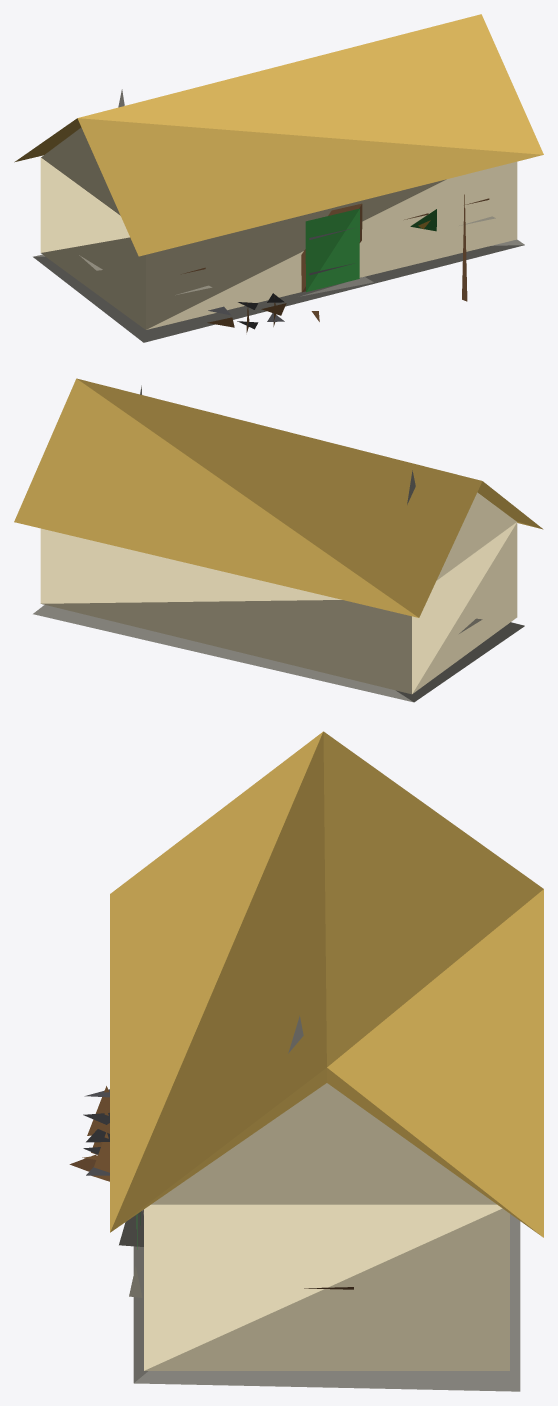
File: inn_green_dragon_lod2.glb
The picture shows the model from 3 angles, top to bottom: view 1: azimuth 30°, elevation 25°; view 2: azimuth 150°, elevation 25°; view 3: azimuth 270°, elevation 25°; orthographic projection. The views are drawn at different scales.
Visible parts, largest first — view 1: inn_green_dragon_lod2; view 2: inn_green_dragon_lod2; view 3: inn_green_dragon_lod2.
Boxes of the visible parts, x1,y1,x2,y2 form: inn_green_dragon_lod2: (14,14,543,342); inn_green_dragon_lod2: (14,378,543,702); inn_green_dragon_lod2: (69,731,543,1391).
Size of the model in its own units: 12 by 5.83 by 7.81.
